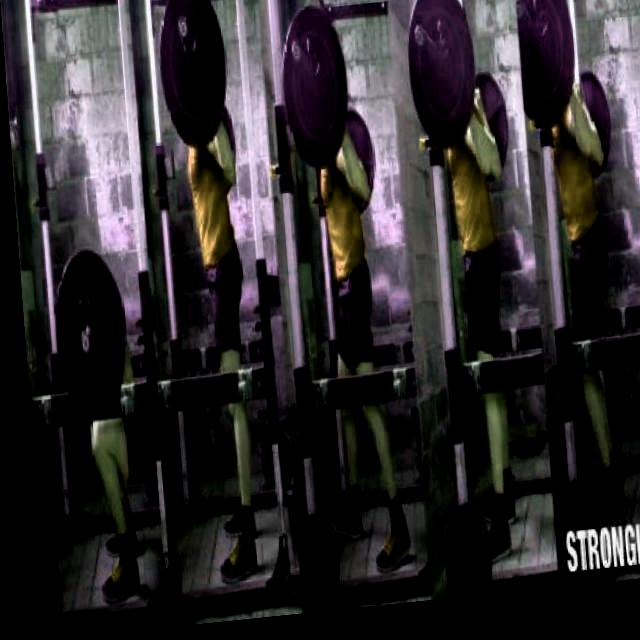barbell: (34, 246, 131, 427), (397, 1, 482, 168), (272, 8, 352, 182), (155, 1, 231, 161)
